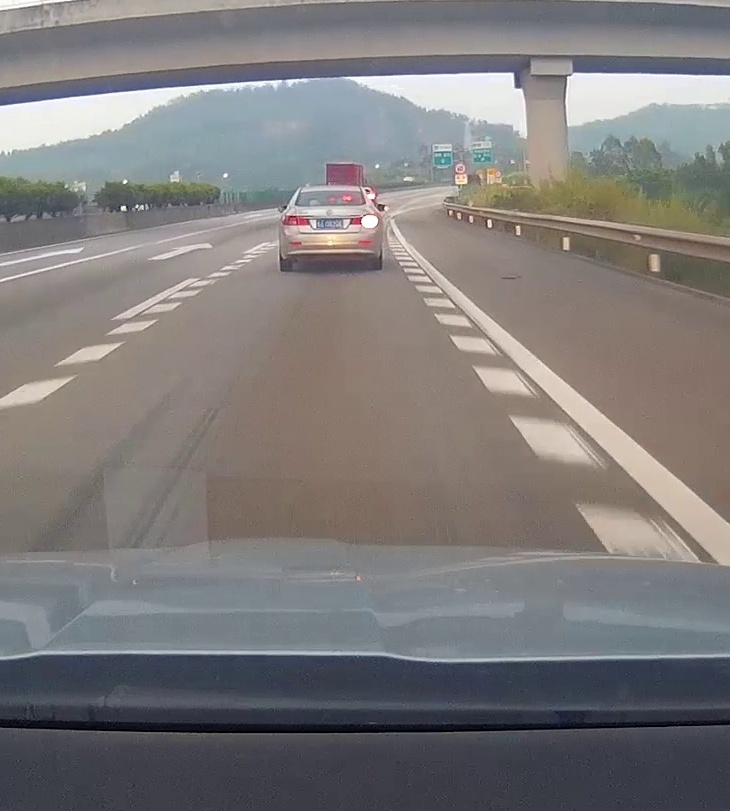L_light: (282, 214, 310, 226)
R_light: (350, 215, 379, 227)
T_light: (324, 201, 337, 205)
day-right: (278, 185, 382, 271)
